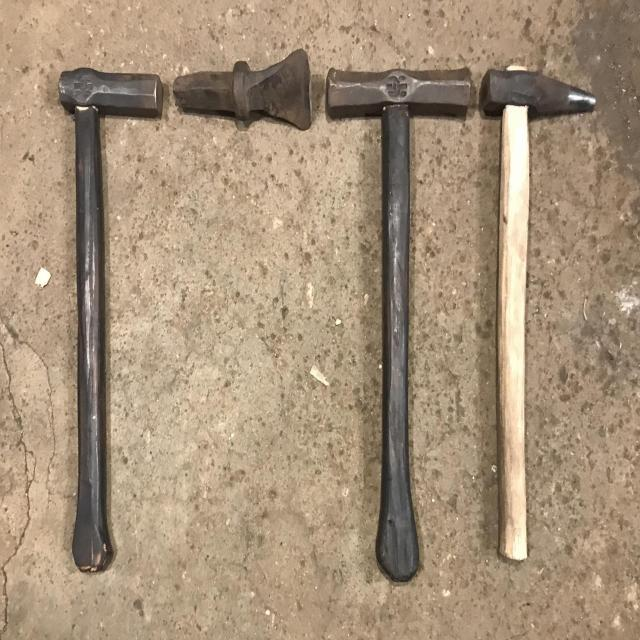hammer: (322, 61, 474, 586), (476, 60, 599, 568), (52, 60, 168, 580)
